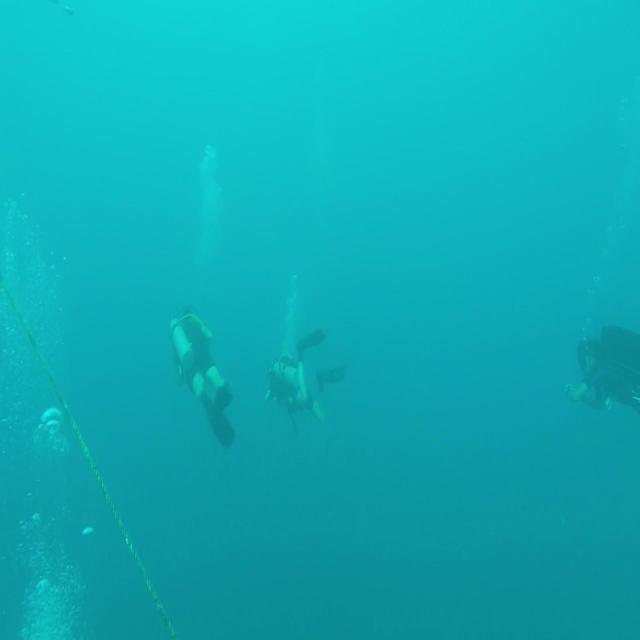human: (168, 304, 235, 448), (265, 326, 347, 436), (565, 323, 639, 414)
